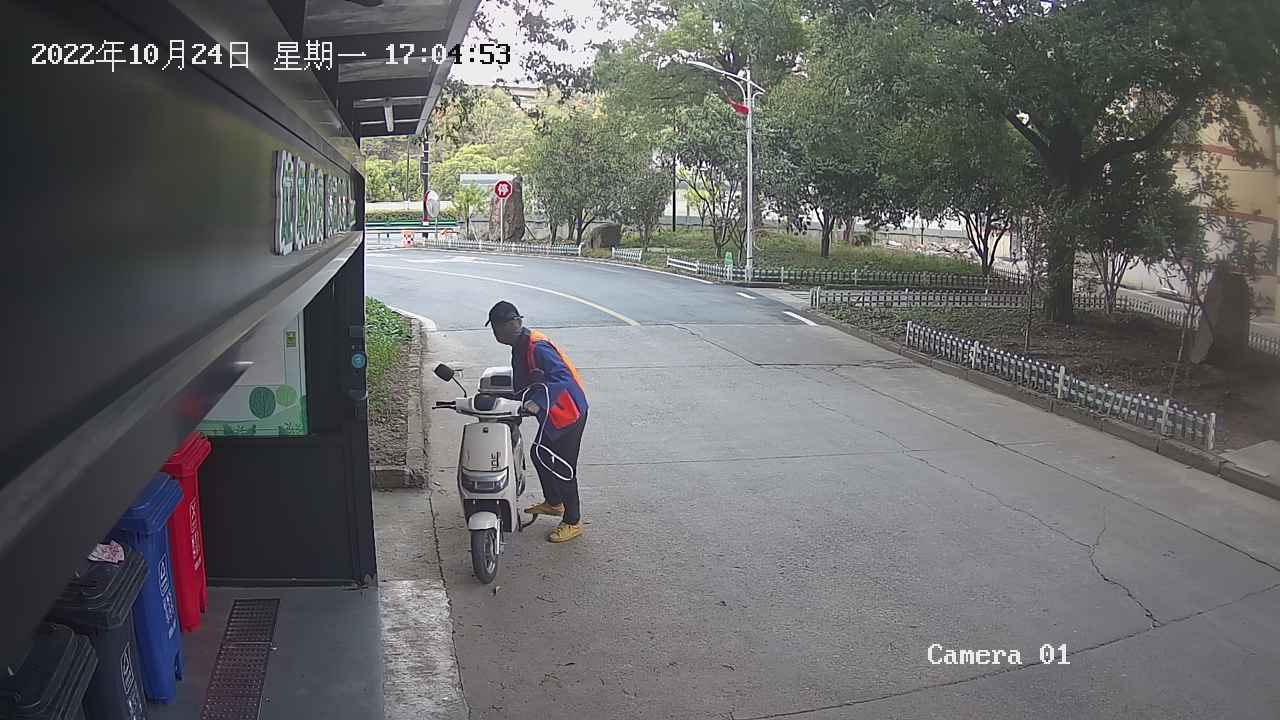worker: (481, 295, 595, 546)
